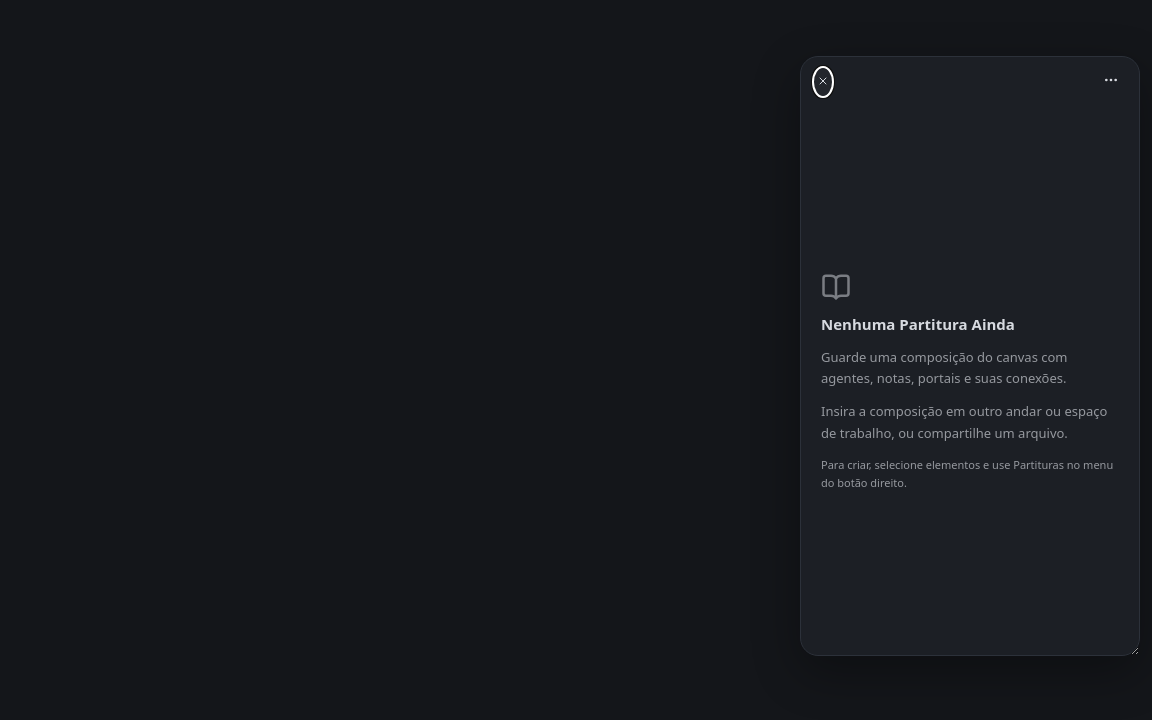
Test: abre painel não modal com vazio explicativo e ações de arquivo no menu
Click the button named "Ações das partituras" at [1111, 82], box [1095, 67, 1127, 97]
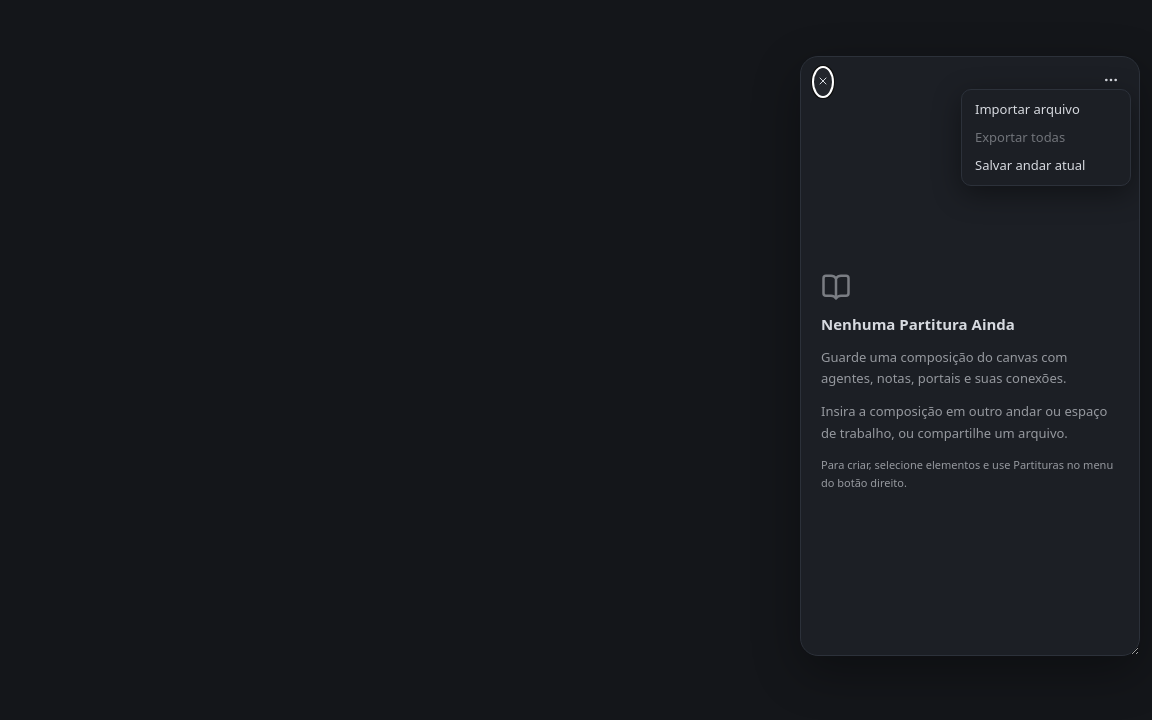
expect the text "Importar arquivo" is shown: met, box [967, 95, 1125, 123]
expect the text "Exportar todas" is shown: met, box [967, 123, 1125, 151]
